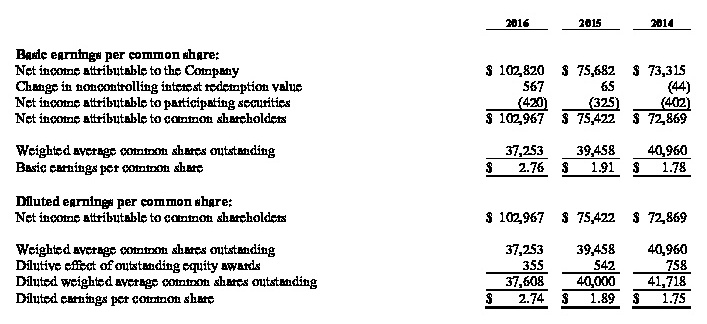table: (0, 0, 707, 324)
